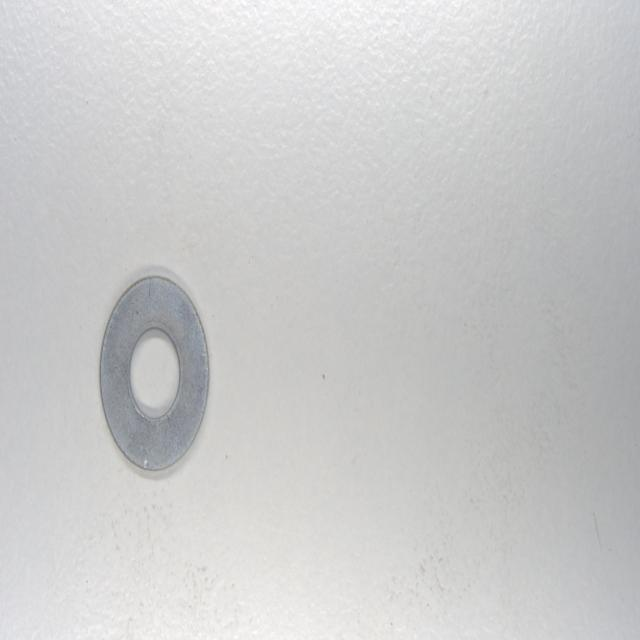washer: (98, 271, 210, 474)
